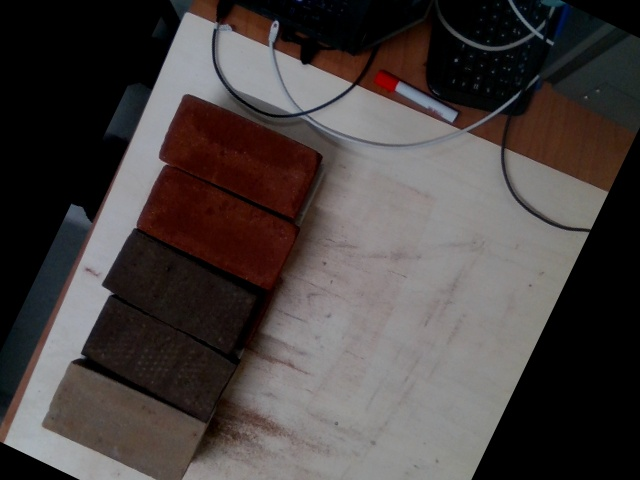brick: (136, 166, 299, 291), (102, 230, 263, 356), (156, 95, 321, 217), (41, 364, 205, 479), (79, 298, 233, 420)
